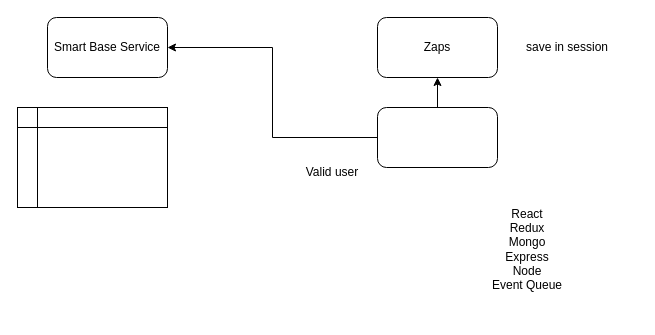
This 655x335 diagram has some shape labels left out. The shapes that lost their labels are listed below. From the top down, each one's box as (x1, y1, x2, y2) in pixels, then its label:
(16, 106, 168, 208): Authentication Authorization First level logging Session maintance
(376, 106, 498, 168): Zaps Service
